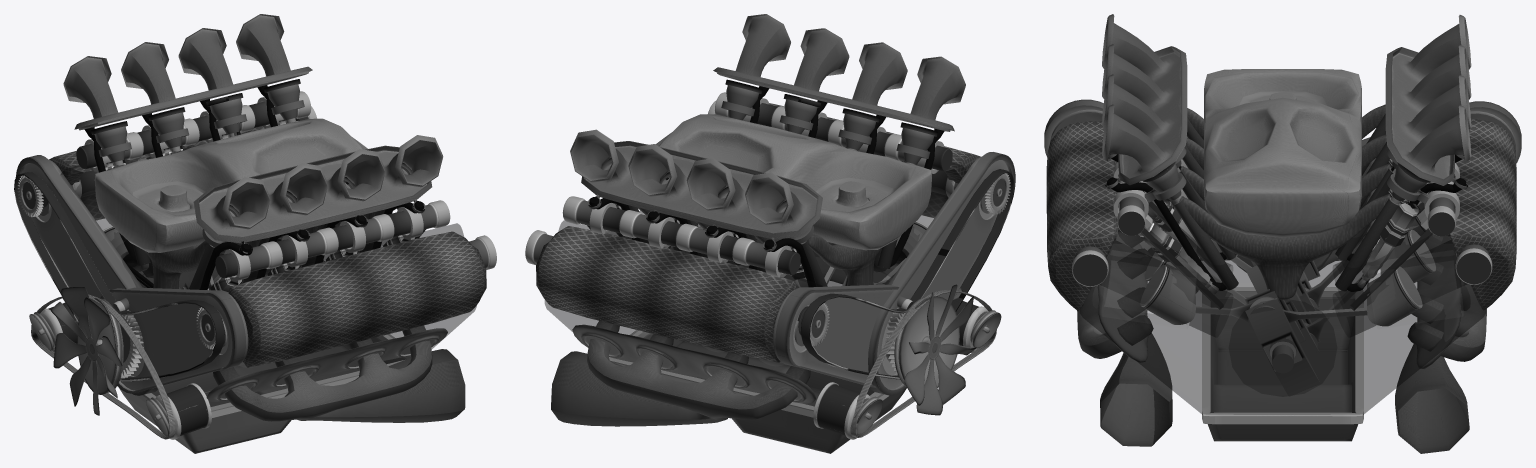
The model's file is animated_engine_v8.gltf.
The picture shows the model from 3 angles, left to right: view 1: azimuth 30°, elevation 25°; view 2: azimuth 150°, elevation 25°; view 3: azimuth 270°, elevation 25°; orthographic projection. The views are drawn at different scales.
Visible parts, largest first — view 1: Plane_008_168_0, Plane_013_40_0, Cube_026_184_0, Plane_002_122_0, Plane_014_32_0, Cube_116_0, Circle_030_178_0, Circle_031_180_0, Cylinder_033_102_0, Plane_011_182_0, Circle_032_172_0, Plane_023_14_0 (+22 smaller); view 2: Plane_012_186_0, Plane_006_174_0, Cube_026_184_0, Plane_014_32_0, Plane_002_122_0, Cube_116_0, Circle_030_178_0, Circle_031_180_0, Cylinder_038_42_0, Plane_011_182_0, Plane_023_14_0, Circle_032_172_0 (+22 smaller); view 3: Cube_116_0, Cube_026_184_0, Plane_011_182_0, Plane_013_40_0, Plane_006_174_0, Plane_014_32_0, Plane_002_122_0, Plane_008_168_0, Plane_012_186_0, Plane_001_110_0, Cylinder_004_78_0, Cylinder_033_102_0 (+21 smaller).
Part boxes in pixels (x1,y1,x2,y2): Plane_008_168_0: [228, 231, 486, 367]; Plane_013_40_0: [206, 325, 465, 422]; Cube_026_184_0: [94, 118, 367, 252]; Plane_002_122_0: [193, 135, 443, 243]; Plane_014_32_0: [63, 14, 312, 130]; Cube_116_0: [60, 116, 476, 411]; Circle_030_178_0: [100, 287, 248, 393]; Circle_031_180_0: [15, 155, 157, 395]; Cylinder_033_102_0: [215, 200, 450, 284]; Plane_011_182_0: [118, 334, 411, 453]; Circle_032_172_0: [51, 287, 122, 415]; Plane_023_14_0: [14, 172, 224, 381]; Plane_012_186_0: [536, 226, 796, 362]; Plane_006_174_0: [551, 320, 816, 426]; Cube_026_184_0: [655, 114, 931, 250]; Plane_014_32_0: [570, 129, 822, 239]; Plane_002_122_0: [713, 14, 965, 131]; Cube_116_0: [545, 150, 966, 410]; Circle_030_178_0: [868, 152, 1015, 395]; Circle_031_180_0: [773, 284, 899, 388]; Cylinder_038_42_0: [562, 196, 800, 277]; Plane_011_182_0: [609, 330, 906, 453]; Plane_023_14_0: [800, 169, 1014, 379]; Circle_032_172_0: [904, 284, 976, 415]; Cube_116_0: [1080, 160, 1485, 414]; Cube_026_184_0: [1204, 69, 1361, 237]; Plane_011_182_0: [1202, 287, 1363, 441]; Plane_013_40_0: [1077, 228, 1172, 446]; Plane_006_174_0: [1395, 235, 1486, 453]; Plane_014_32_0: [1385, 15, 1471, 185]; Plane_002_122_0: [1102, 14, 1187, 185]; Plane_008_168_0: [1046, 121, 1118, 311]; Plane_012_186_0: [1447, 119, 1516, 310]; Plane_001_110_0: [1171, 104, 1390, 299]; Cylinder_004_78_0: [1244, 260, 1320, 396]; Cylinder_033_102_0: [1113, 162, 1223, 309].
Bounding box in the file's own units: 2.2 × 2.07 × 2.66.
Materials: 93 (76 with a texture image).
